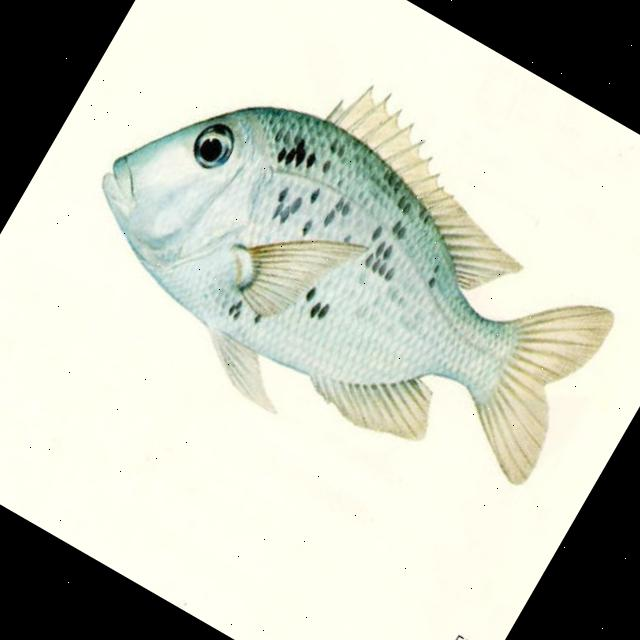ikan: (41, 0, 640, 542)
